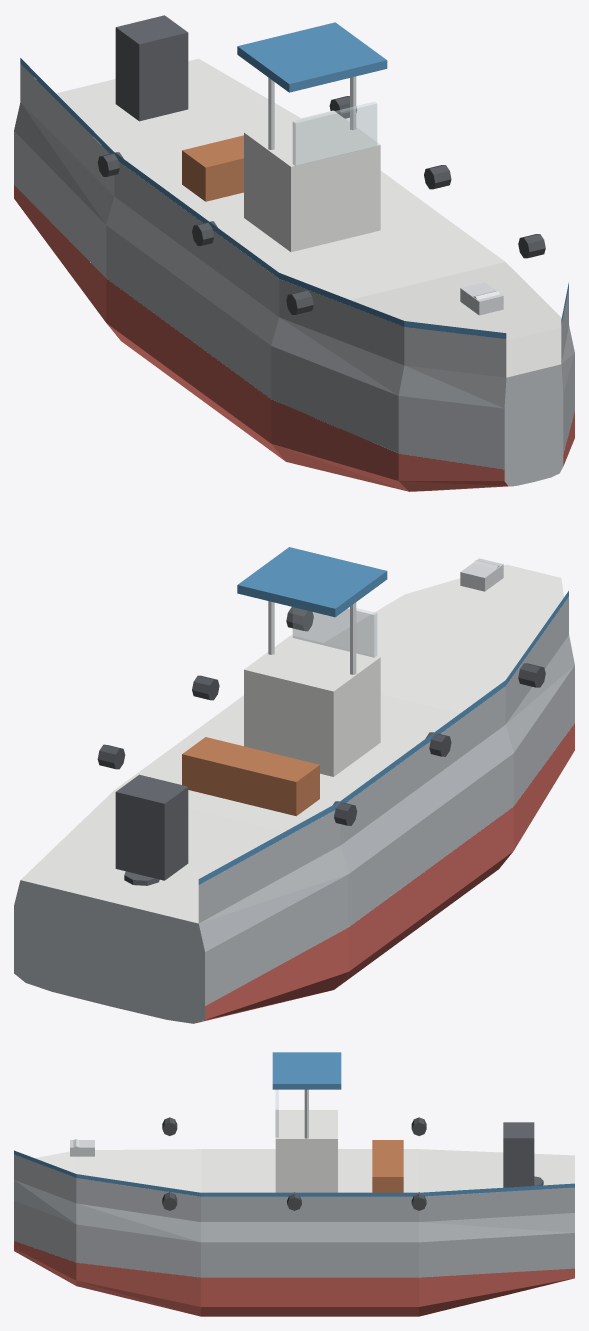
File: shipyard-and-dry-dock-shipyard-and-dry-dock-yard-work--8e4d3aa4__37970.glb
3 views of the same model, one above another, from view 1: azimuth 30°, elevation 25°; view 2: azimuth 150°, elevation 25°; view 3: azimuth 270°, elevation 25° (orthographic). The views are drawn at different scales.
Parts seen in each view (by area): view 1: shipyard-and-dry-dock-yard-work-boat; view 2: shipyard-and-dry-dock-yard-work-boat; view 3: shipyard-and-dry-dock-yard-work-boat.
Part boxes in pixels (x1=…): shipyard-and-dry-dock-yard-work-boat: x1=14, y1=15, x2=574, y2=491; shipyard-and-dry-dock-yard-work-boat: x1=14, y1=547, x2=574, y2=1023; shipyard-and-dry-dock-yard-work-boat: x1=14, y1=1052, x2=574, y2=1316.
Bounding box in the file's own units: 3.04 × 3.9 × 9.
